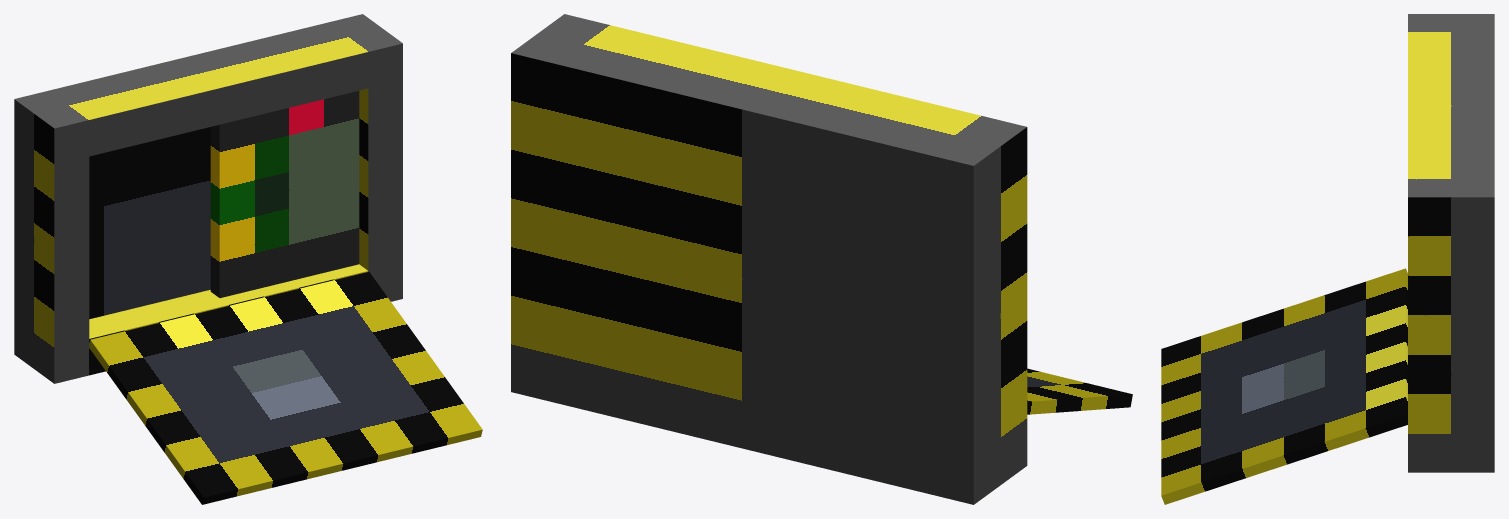
Rendered from door_button_warning_open_device.glb.
The picture shows the model from 3 angles, left to right: view 1: azimuth 30°, elevation 25°; view 2: azimuth 150°, elevation 25°; view 3: azimuth 270°, elevation 25°; orthographic projection. The views are drawn at different scales.
Parts seen in each view (by area): view 1: Continuous_Housing, Service_Cover, Device_Module; view 2: Continuous_Housing, Service_Cover; view 3: Continuous_Housing, Service_Cover.
Part boxes in pixels (bbox=[...]): Continuous_Housing: bbox=[14, 14, 402, 383]; Service_Cover: bbox=[89, 272, 482, 504]; Device_Module: bbox=[210, 91, 359, 297]; Continuous_Housing: bbox=[511, 14, 1027, 504]; Service_Cover: bbox=[1027, 368, 1132, 414]; Continuous_Housing: bbox=[1408, 14, 1494, 472]; Service_Cover: bbox=[1161, 268, 1407, 504].
Size of the model in its own units: 0.2812 by 0.2331 by 0.2162.
Materials: 1 (1 with a texture image).
